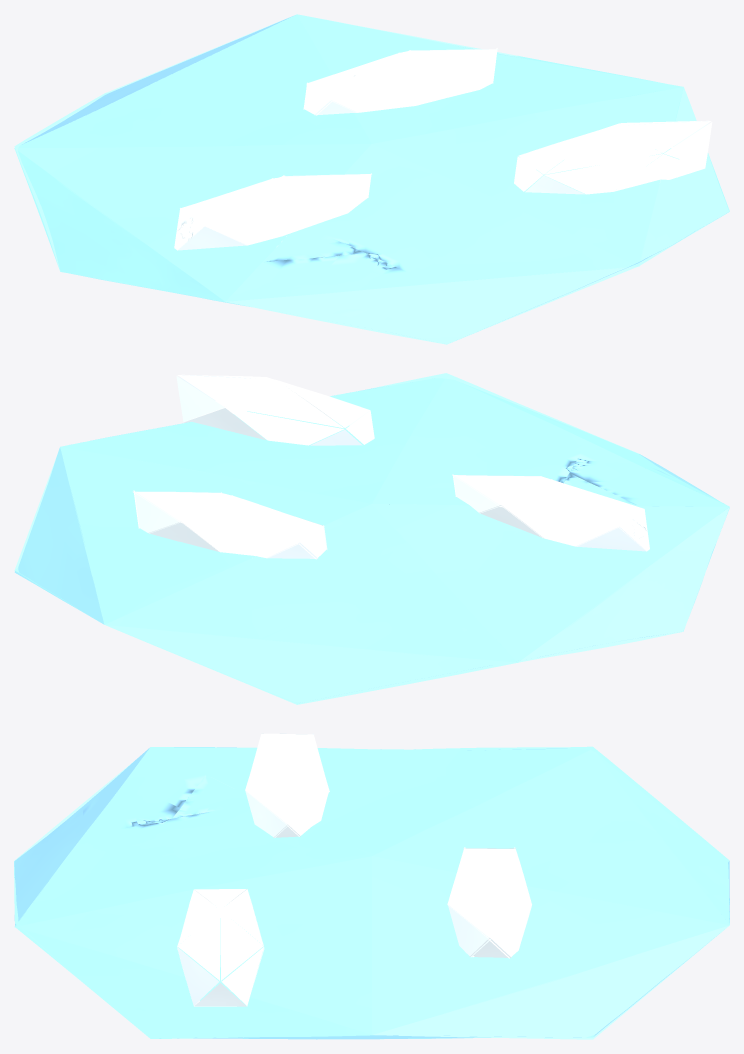
The model's file is fish_spot.glb.
The picture shows the model from 3 angles, top to bottom: view 1: azimuth 30°, elevation 25°; view 2: azimuth 150°, elevation 25°; view 3: azimuth 270°, elevation 25°; orthographic projection. The views are drawn at different scales.
Parts seen in each view (by area): view 1: Shoal; view 2: Shoal; view 3: Shoal.
Boxes of the visible parts, x1,y1,x2,y2 form: Shoal: [14, 14, 729, 344]; Shoal: [14, 373, 729, 704]; Shoal: [14, 733, 729, 1039].
Bounding box in the file's own units: 0.8945 × 0.1403 × 0.8506.
